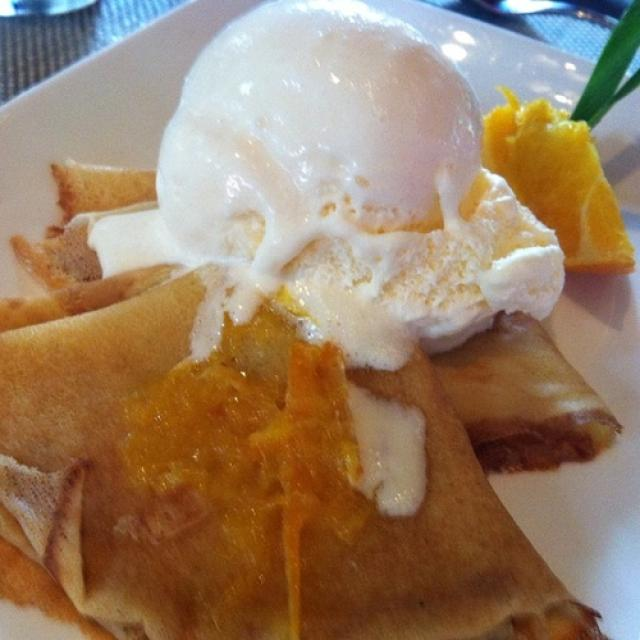蛋糕甜品: (25, 74, 571, 636)
